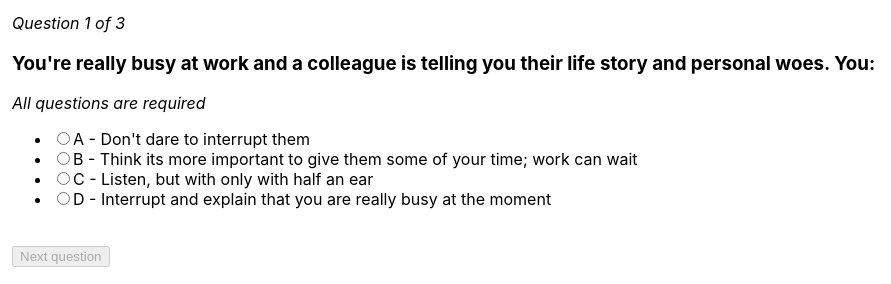
Test: Questions screen › should enable next button after selecting
Click the radio button with test id "question-A" at (64, 139), box [57,132,70,145]
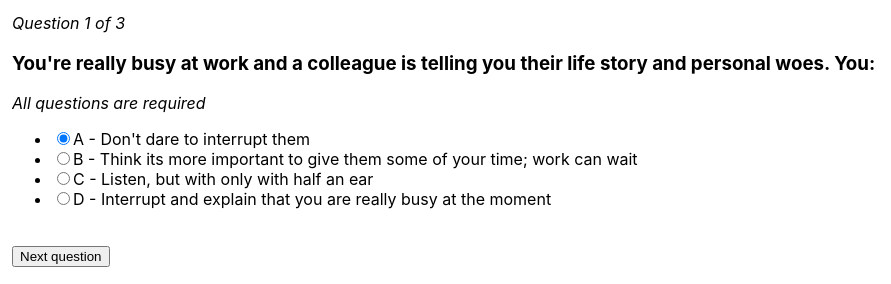
Expected: the button with test id "next-button" is enabled, [12,246,110,267]
